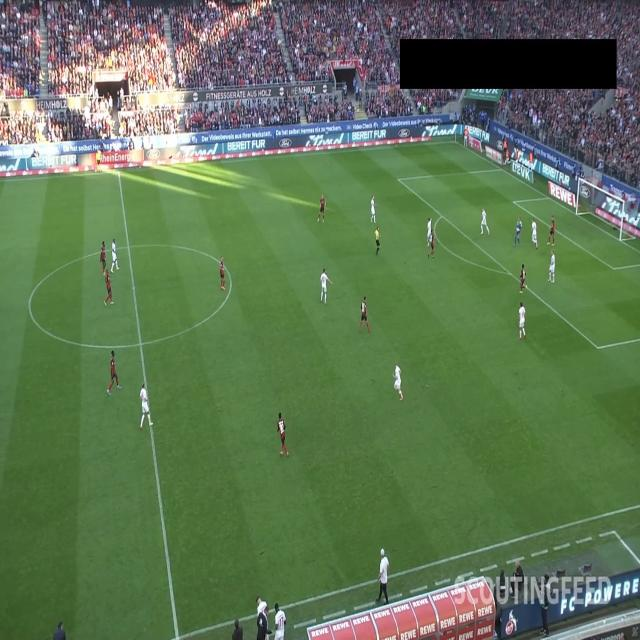ball: (517, 228, 519, 232)
